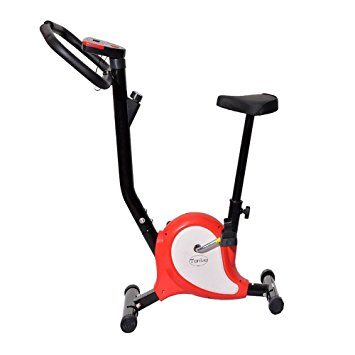gym_bike: (32, 20, 306, 340)
